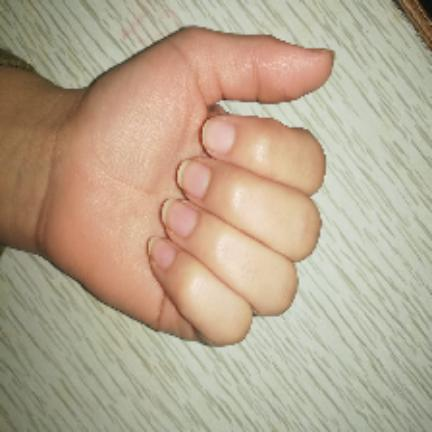Nail: (161, 198, 200, 238), (177, 159, 212, 199), (202, 119, 236, 153), (148, 237, 177, 269)
